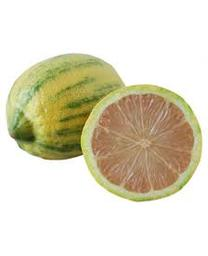lemon: (83, 83, 203, 203), (7, 55, 124, 160)
